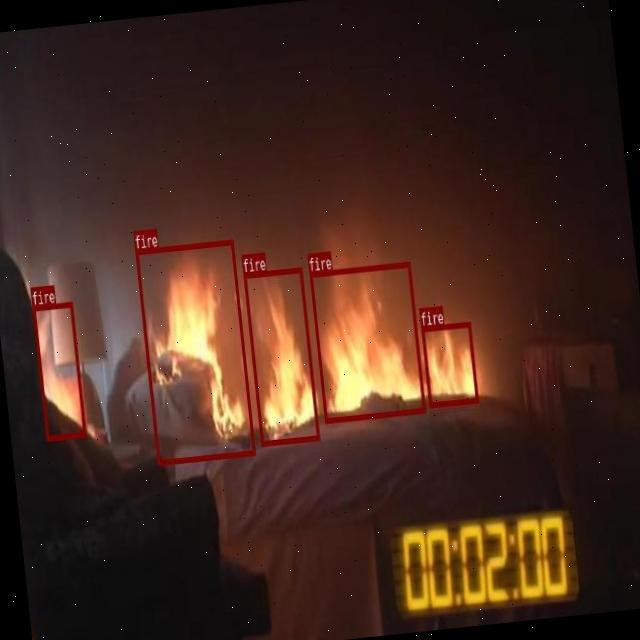fire: (133, 238, 254, 464), (309, 260, 425, 421), (242, 266, 320, 445), (32, 301, 86, 439), (422, 320, 478, 407)
